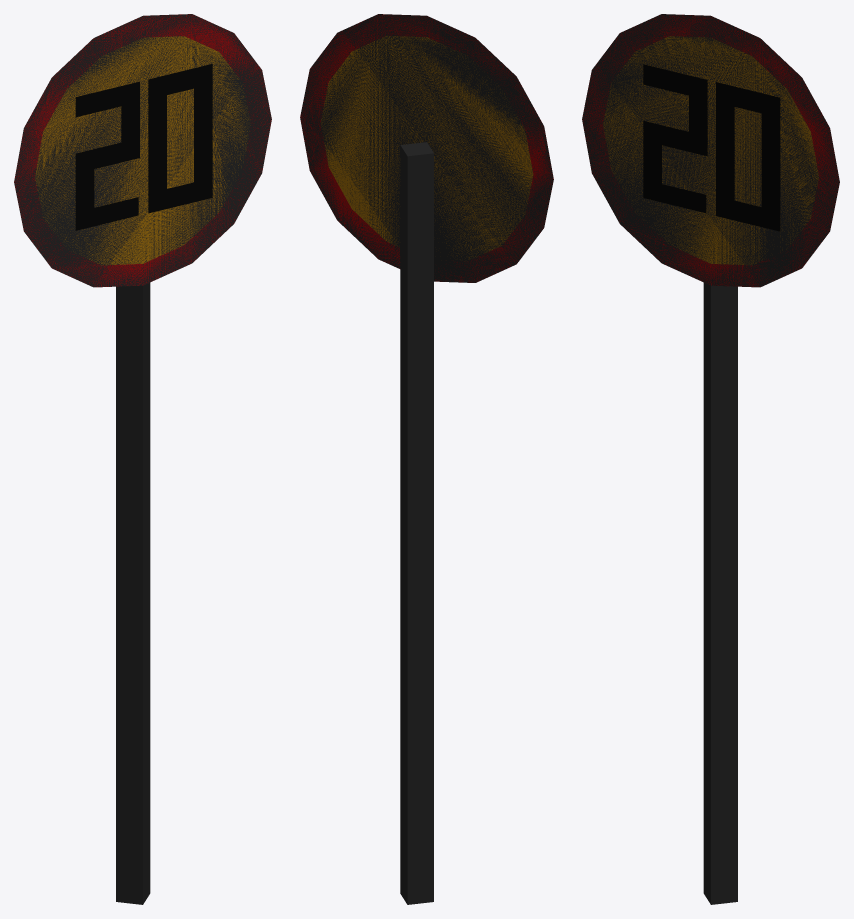
The model's file is 20kmh.obj.
3 views of the same model, side by side, from view 1: azimuth 30°, elevation 25°; view 2: azimuth 150°, elevation 25°; view 3: azimuth 330°, elevation 25° (orthographic).
Visible parts, largest first — view 1: Cylinder.001; view 2: Cylinder.001; view 3: Cylinder.001.
Boxes of the visible parts, x1=… form: Cylinder.001: x1=14, y1=14, x2=271, y2=904; Cylinder.001: x1=300, y1=14, x2=553, y2=904; Cylinder.001: x1=582, y1=14, x2=839, y2=904.
Bounding box in the file's own units: 0.8957 × 2.95 × 0.1199.
